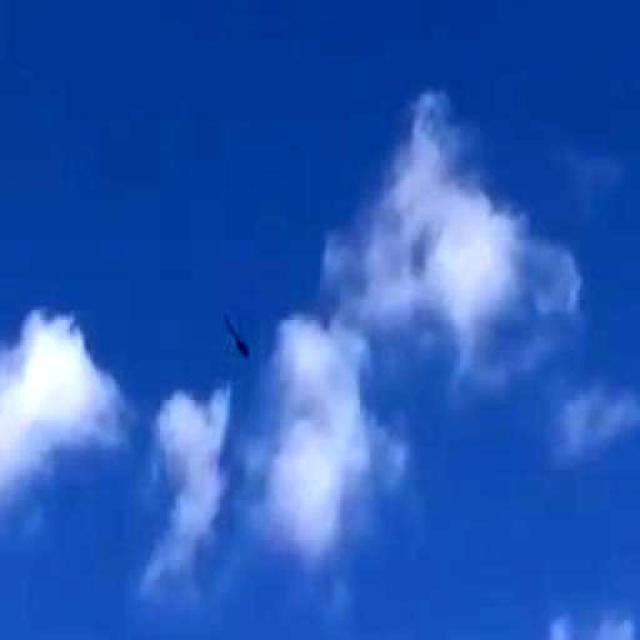drone: (192, 292, 274, 379)
